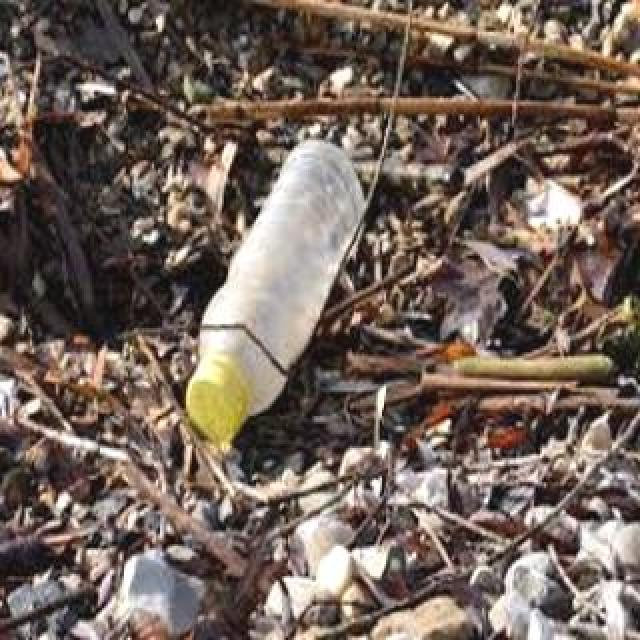Pet_Bottle: (184, 135, 368, 455)
